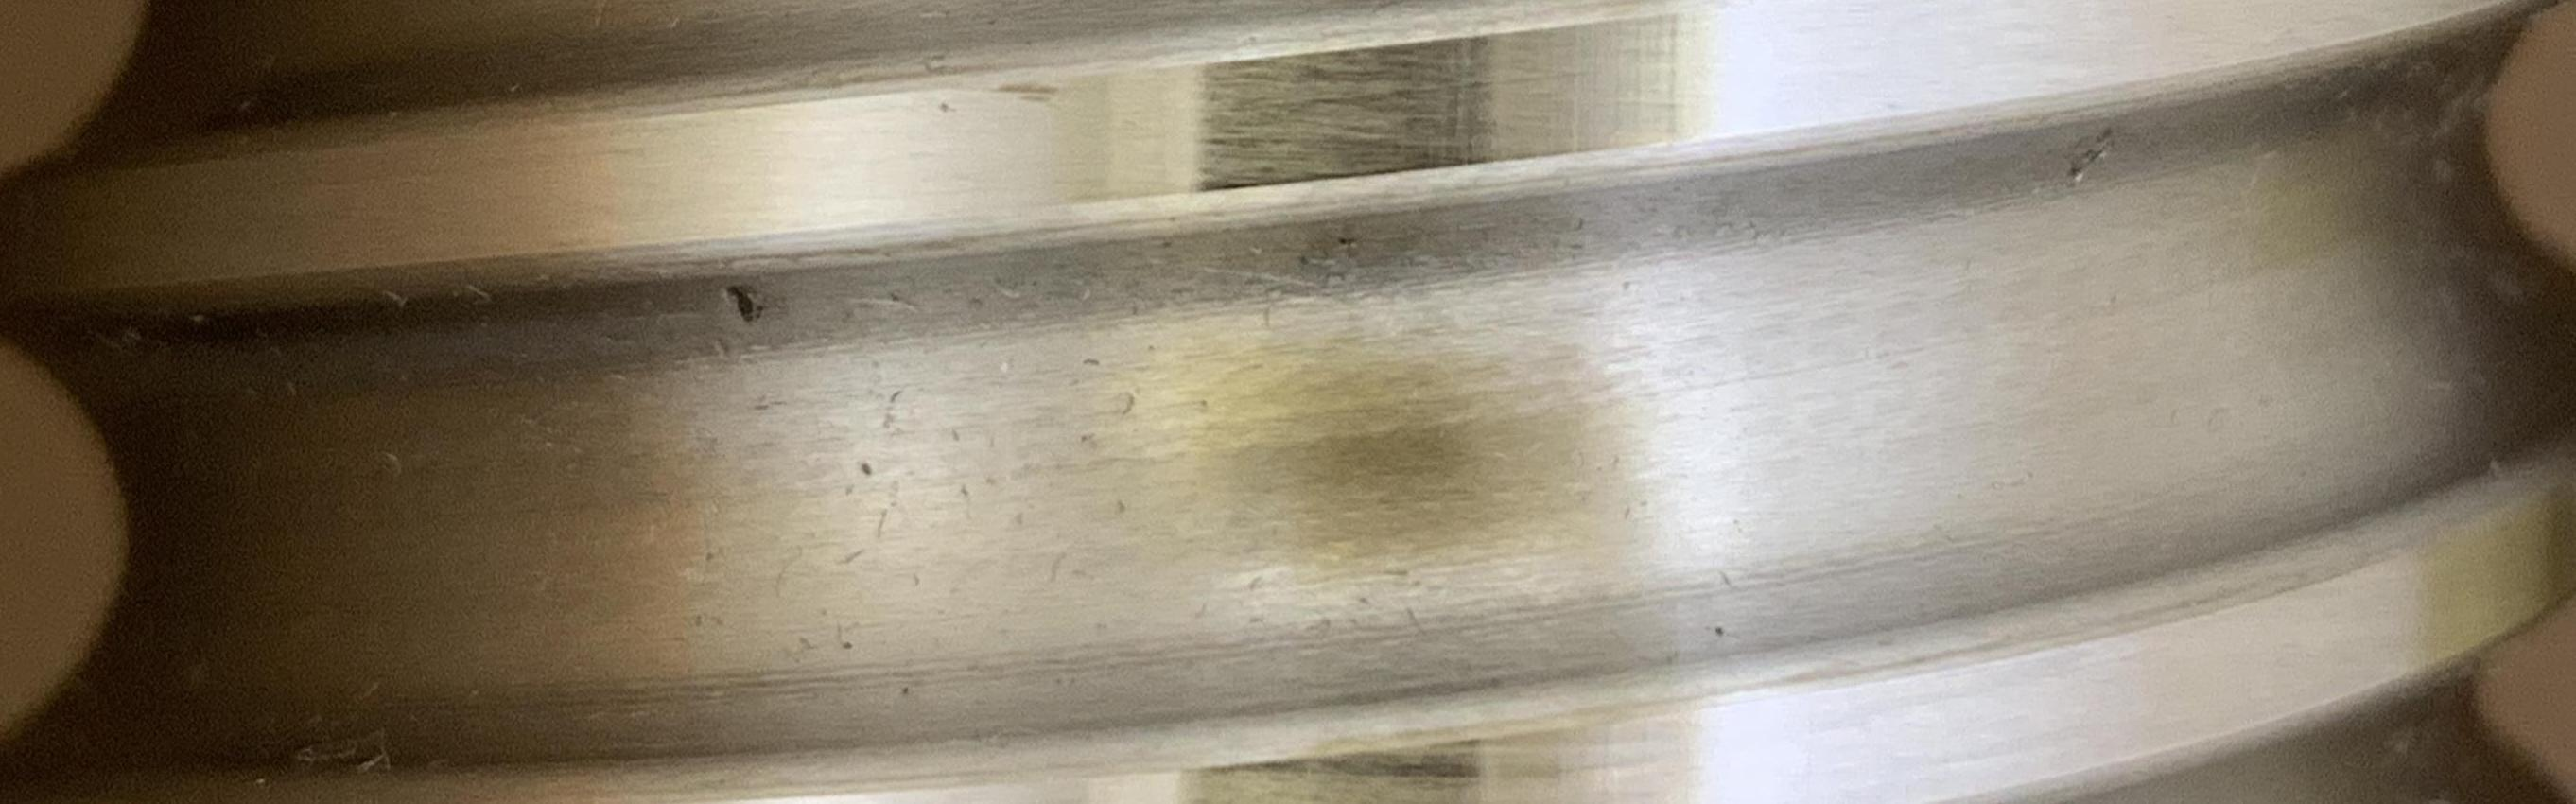pitting: (2068, 128, 2111, 179), (726, 286, 764, 321), (1339, 237, 1357, 247)
